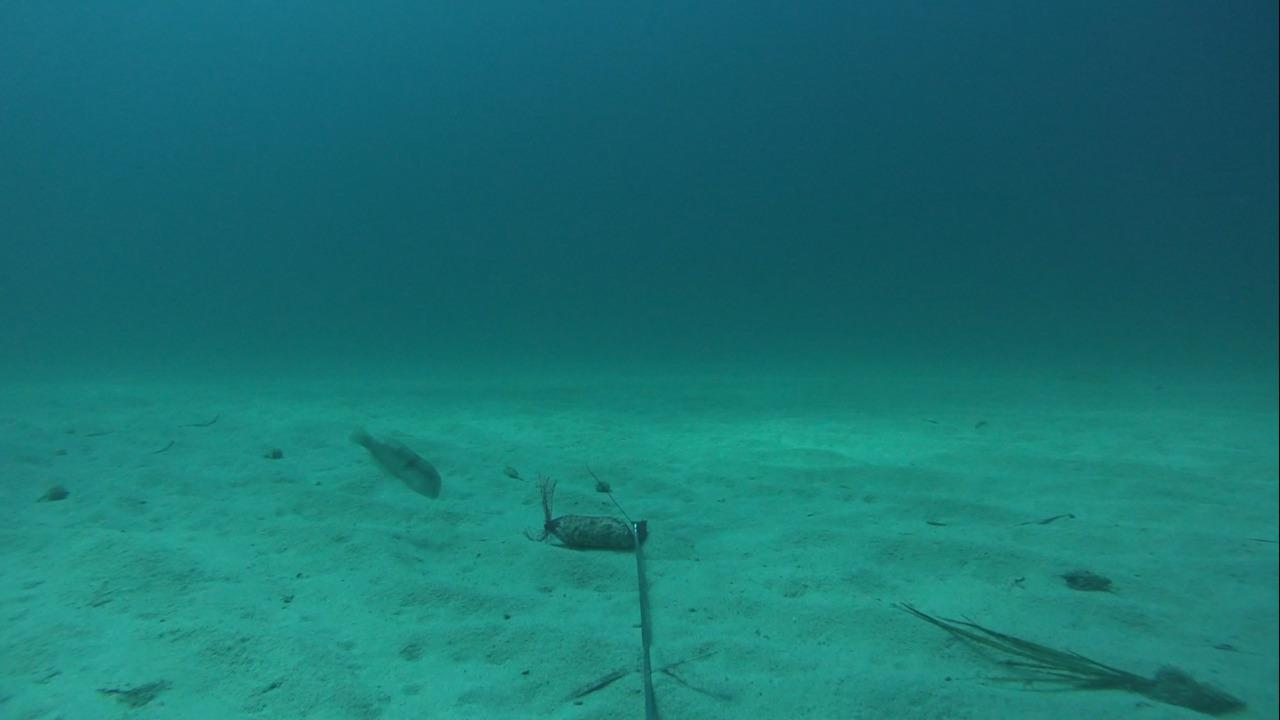raor: (345, 424, 446, 501)
